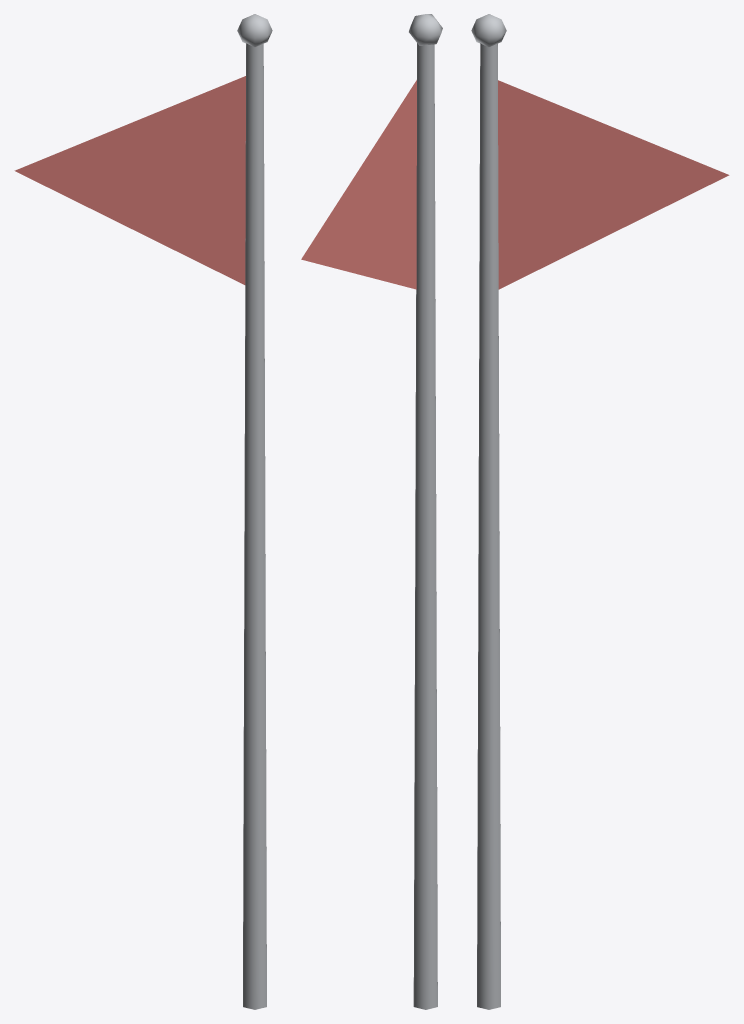
File: flagpole.glb
3 views of the same model, side by side, from view 1: azimuth 90°, elevation 25°; view 2: azimuth 150°, elevation 25°; view 3: azimuth 270°, elevation 25° (orthographic).
Parts seen in each view (by area): view 1: flagpole; view 2: flagpole; view 3: flagpole.
Part boxes in pixels (x1,y1,x2,y2): flagpole: [14, 14, 272, 1009]; flagpole: [301, 14, 442, 1009]; flagpole: [471, 14, 729, 1009].
Size of the model in its own units: 0.14 by 4.31 by 1.02.
